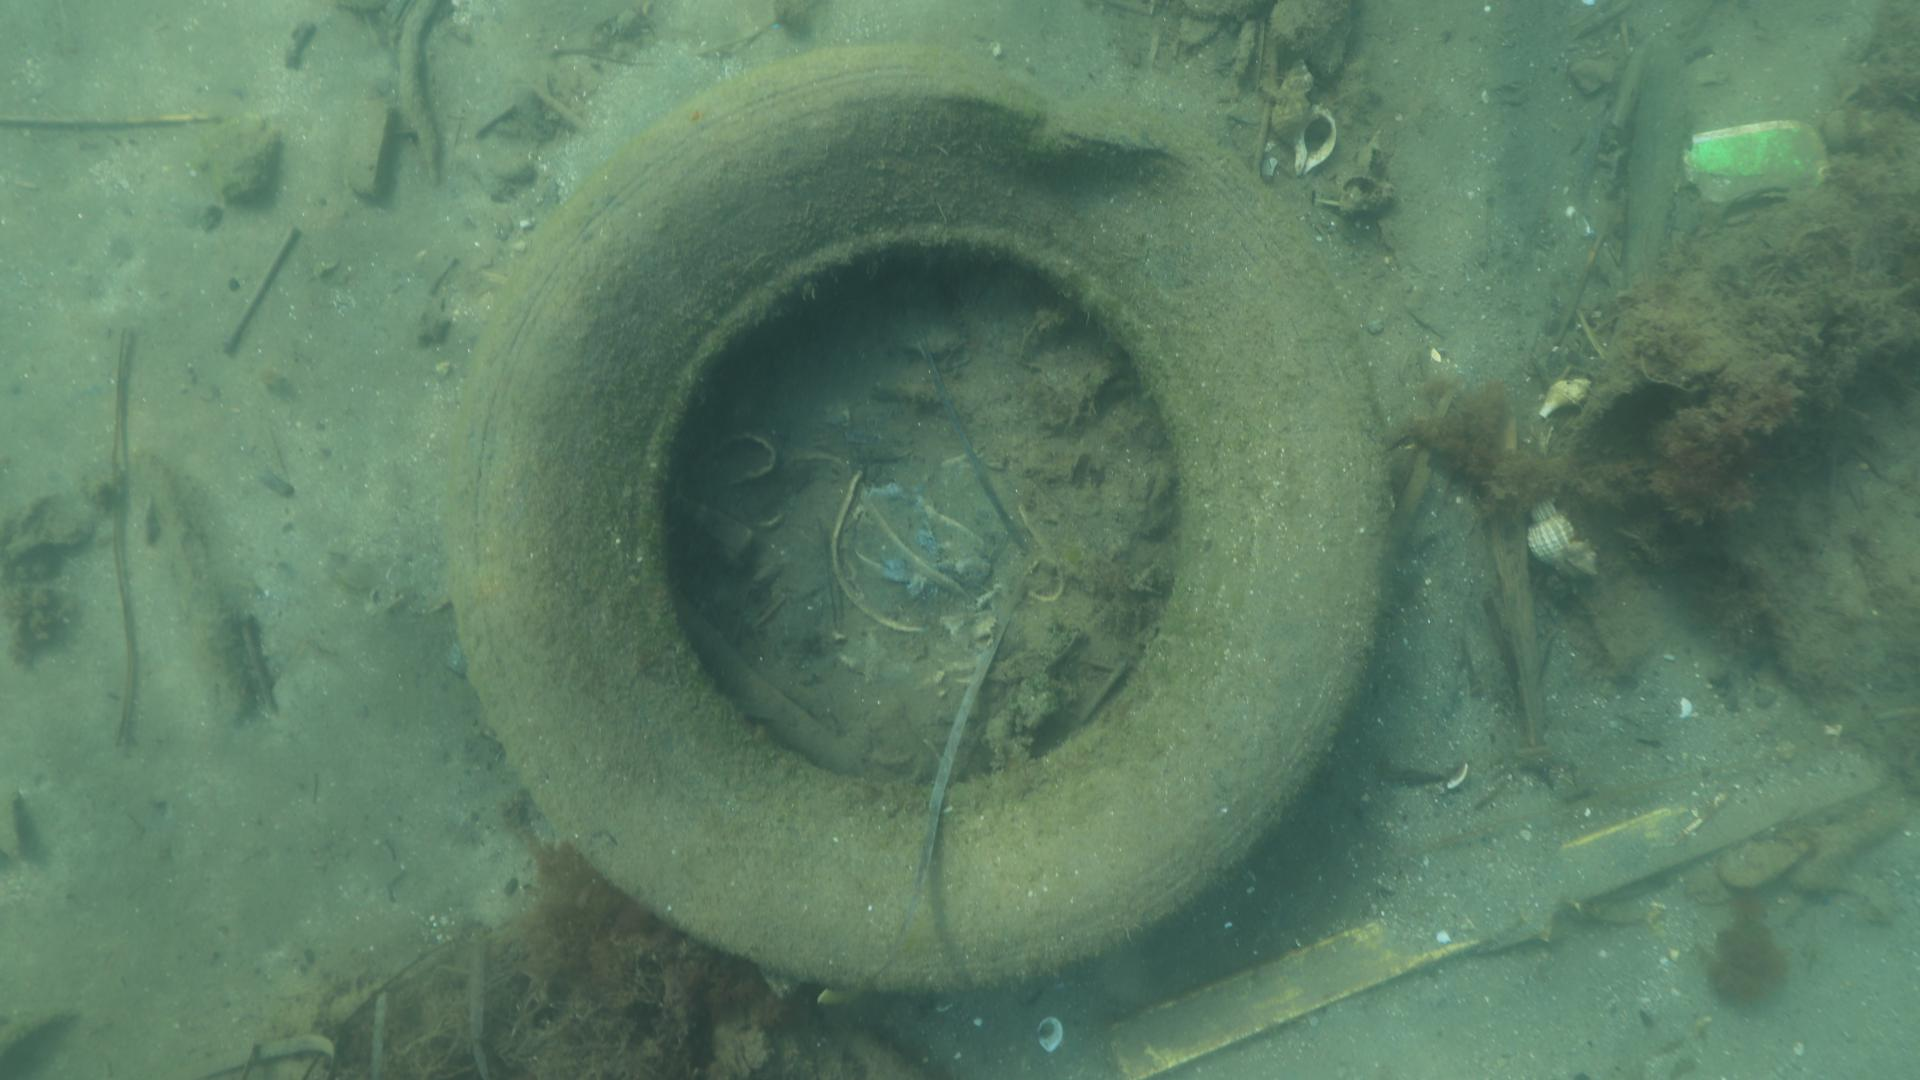tire: (443, 40, 1394, 989)
